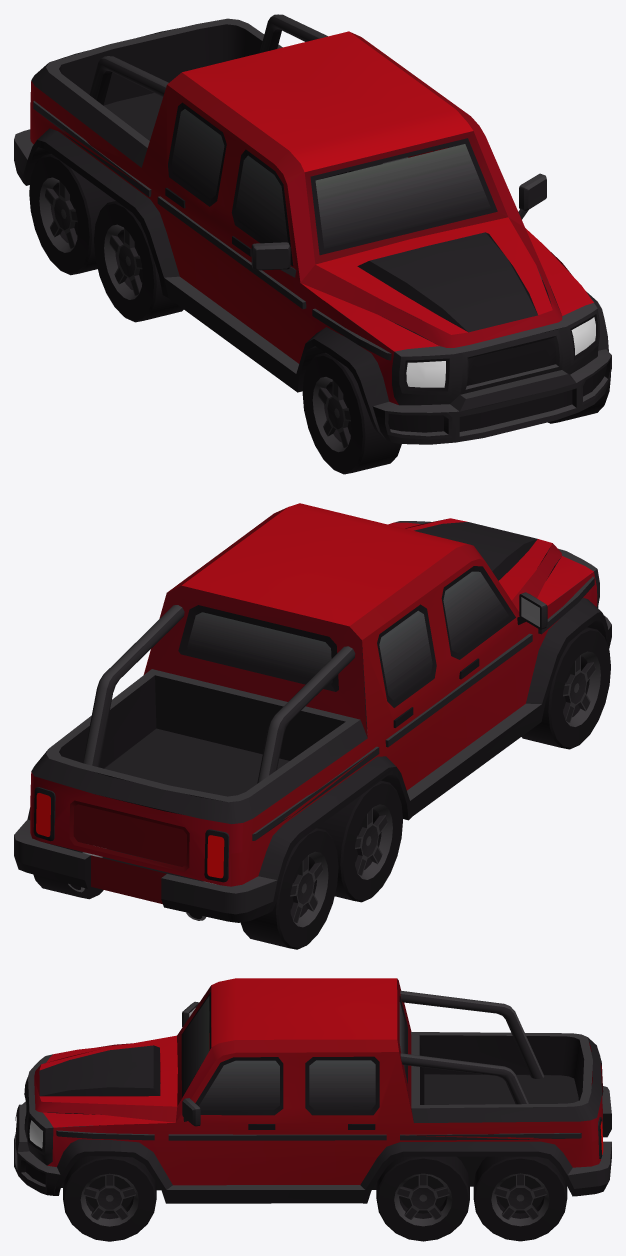
The model's file is Car4.glb.
3 views of the same model, one above another, from view 1: azimuth 30°, elevation 25°; view 2: azimuth 150°, elevation 25°; view 3: azimuth 270°, elevation 25° (orthographic). The views are drawn at different scales.
Parts seen in each view (by area): view 1: unityexport_ColorVar1_Material_0_1.002; view 2: unityexport_ColorVar1_Material_0_1.002; view 3: unityexport_ColorVar1_Material_0_1.002.
Boxes of the visible parts, x1,y1,x2,y2 form: unityexport_ColorVar1_Material_0_1.002: (14, 14, 611, 474); unityexport_ColorVar1_Material_0_1.002: (14, 503, 611, 949); unityexport_ColorVar1_Material_0_1.002: (14, 978, 611, 1241).
Size of the model in its own units: 22.54 by 18.35 by 52.75.
2 materials, 2 textured.
